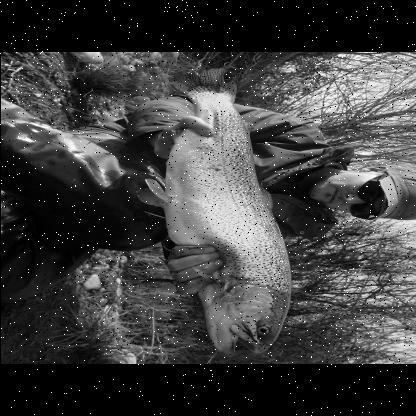fish: (165, 66, 291, 357)
